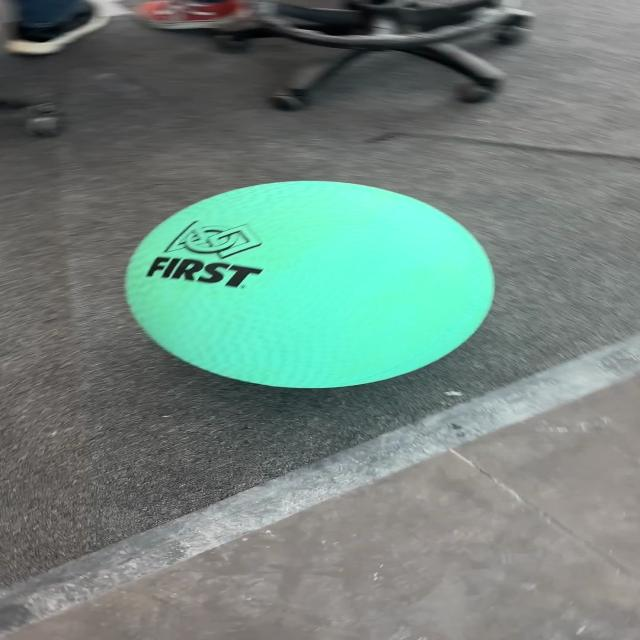Algae: (123, 179, 496, 389)
